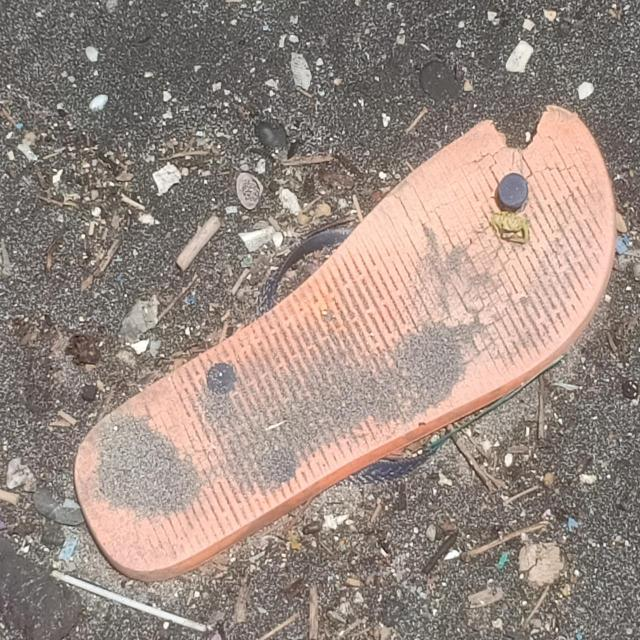rubber_waste: (73, 103, 620, 586)
